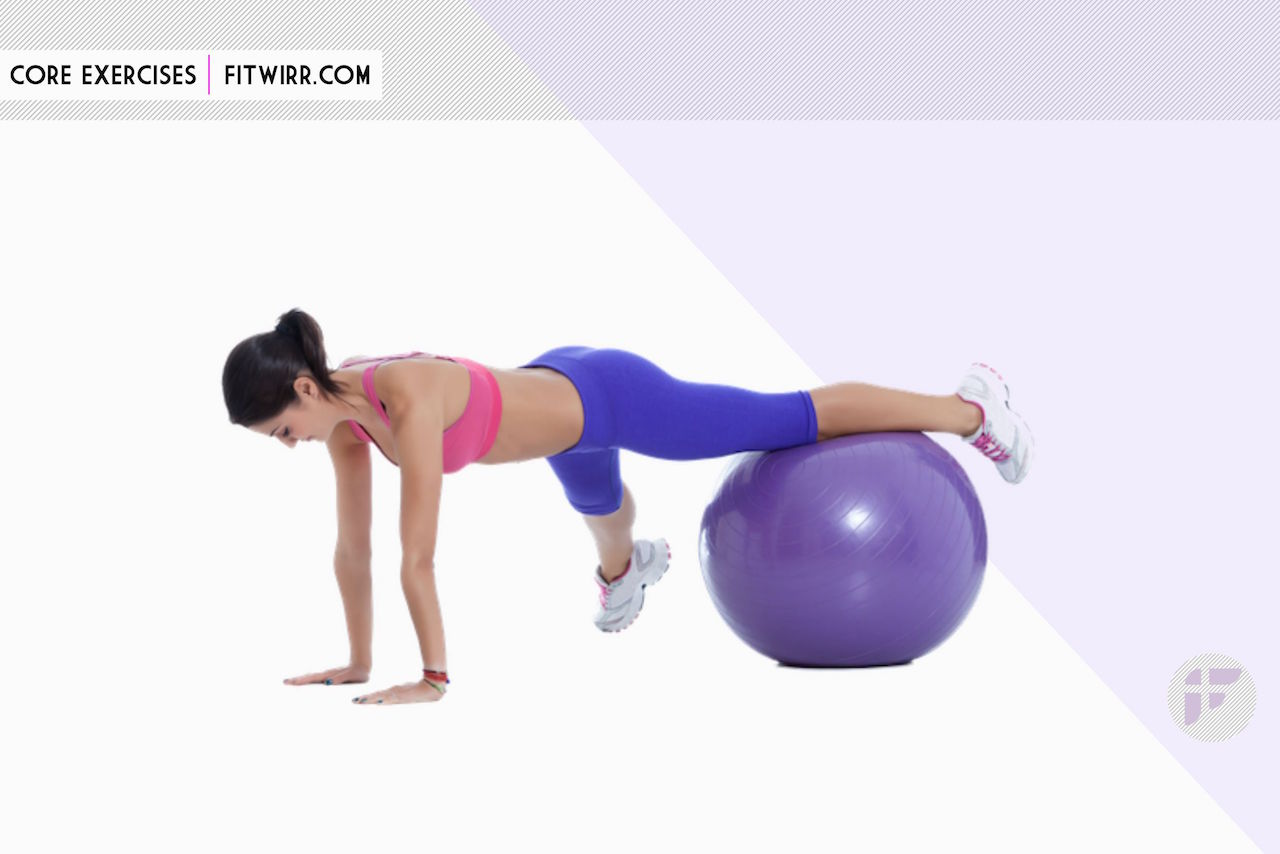yogaball: (694, 411, 998, 697)
